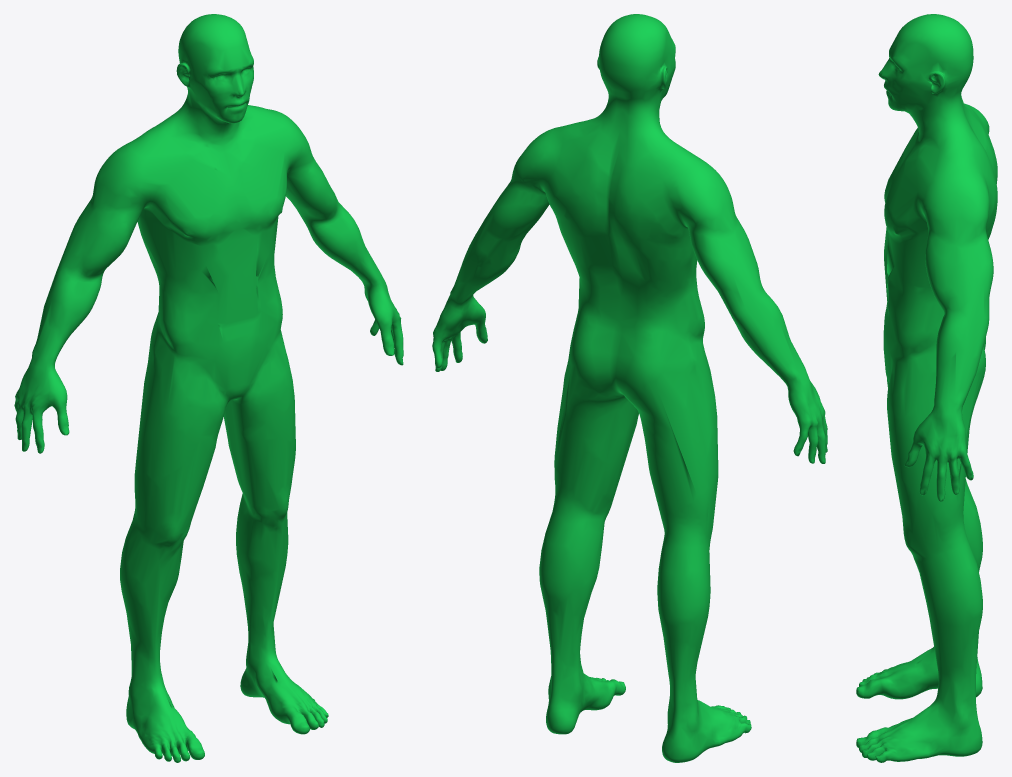
The picture shows the model from 3 angles, left to right: view 1: azimuth 30°, elevation 25°; view 2: azimuth 150°, elevation 25°; view 3: azimuth 270°, elevation 25°; orthographic projection.
Visible parts, largest first — view 1: FinalBaseMesh; view 2: FinalBaseMesh; view 3: FinalBaseMesh.
Boxes of the visible parts, <box> form: FinalBaseMesh: <box>14,14,403,762</box>; FinalBaseMesh: <box>432,14,827,762</box>; FinalBaseMesh: <box>856,14,997,762</box>.
Size of the model in its own units: 11.69 by 20.74 by 3.77.
